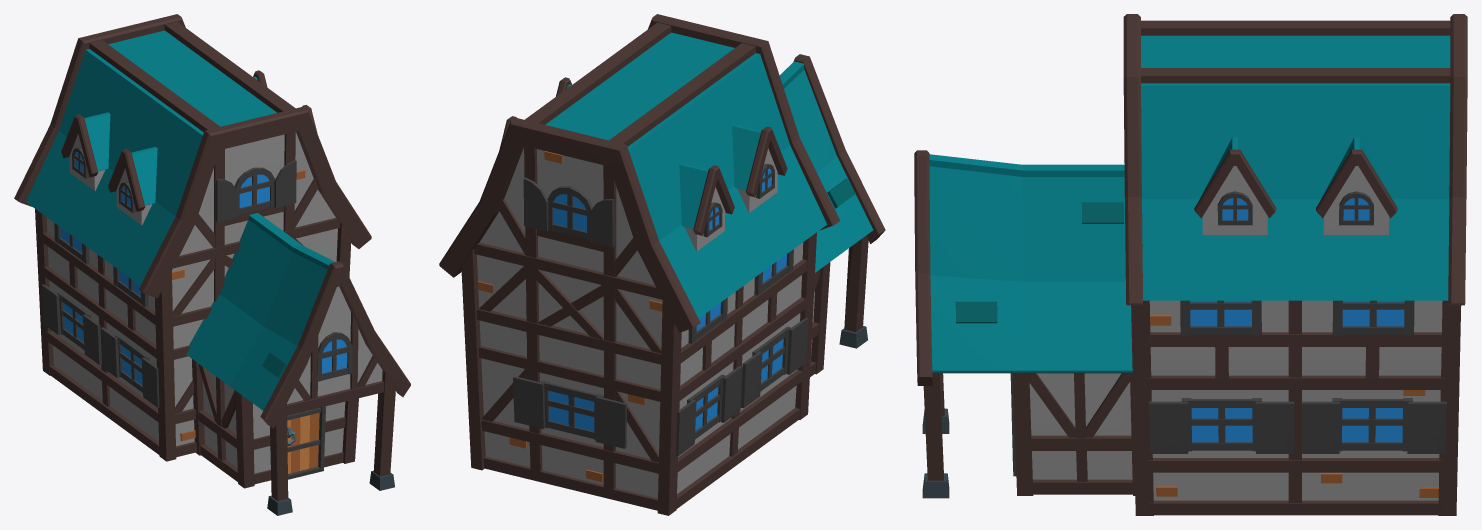
The model's file is House_5-3.fbx.
3 renders of one model, left to right at view 1: azimuth 30°, elevation 25°; view 2: azimuth 150°, elevation 25°; view 3: azimuth 270°, elevation 25°, orthographic. The views are drawn at different scales.
Visible parts, largest first — view 1: Town_BG_Bd_House06_A.010; view 2: Town_BG_Bd_House06_A.010; view 3: Town_BG_Bd_House06_A.010.
Boxes of the visible parts, x1,y1,x2,y2 form: Town_BG_Bd_House06_A.010: (14, 14, 410, 515); Town_BG_Bd_House06_A.010: (439, 14, 885, 515); Town_BG_Bd_House06_A.010: (914, 14, 1467, 515).
Bounding box in the file's own units: 559 × 753 × 904.
